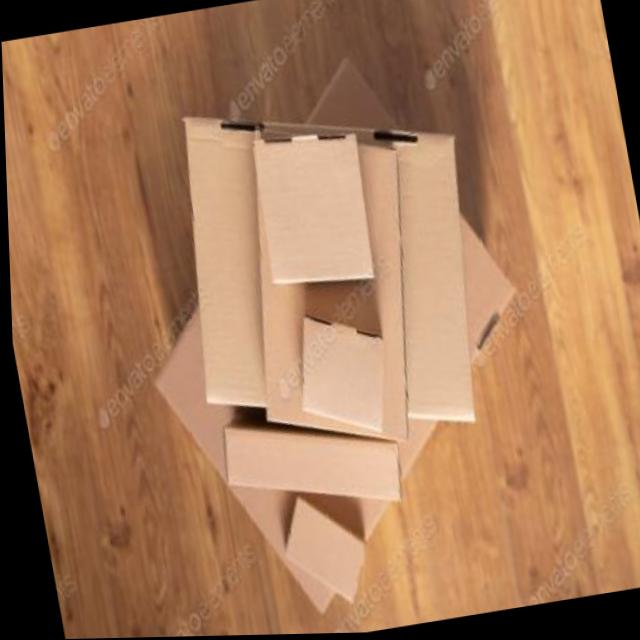box: (69, 26, 581, 639), (150, 64, 512, 475), (201, 381, 434, 562), (239, 113, 389, 321), (270, 301, 407, 458), (268, 485, 371, 613)
